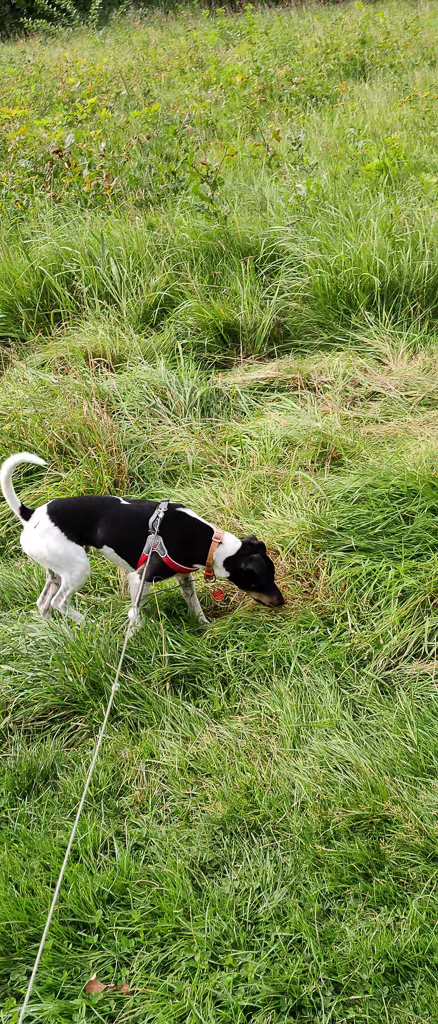Dog: (0, 438, 303, 648)
